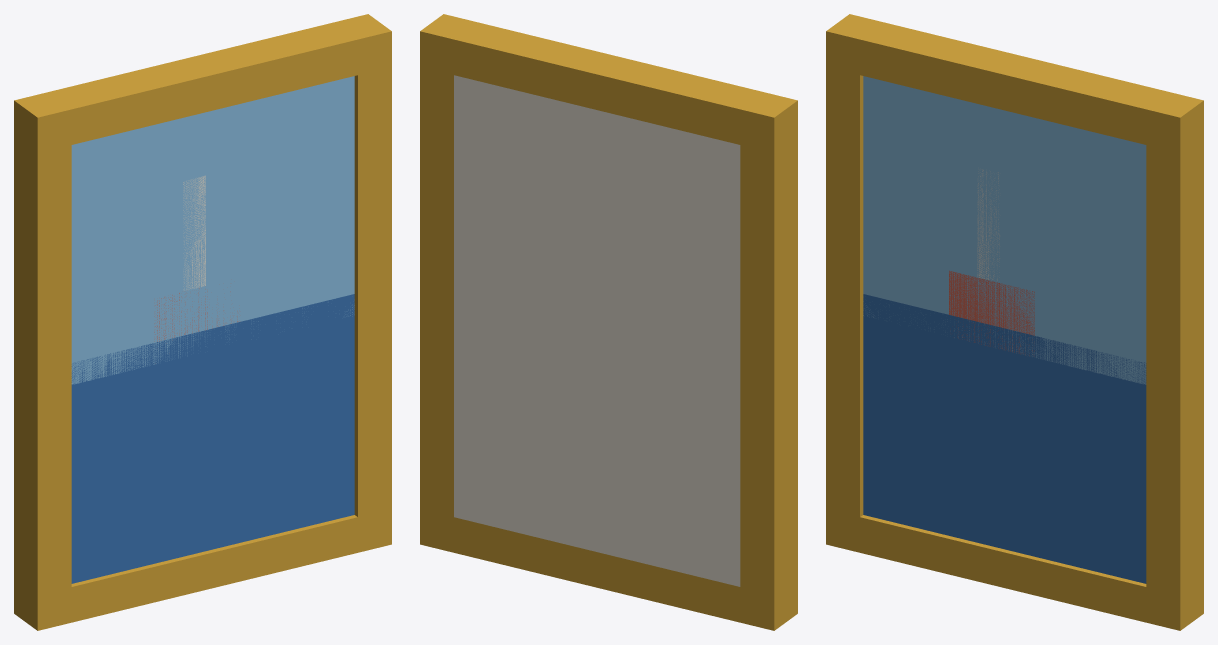
Rendered from paintingSeascape.glb.
3 renders of one model, left to right at view 1: azimuth 30°, elevation 25°; view 2: azimuth 150°, elevation 25°; view 3: azimuth 330°, elevation 25°, orthographic.
Visible parts, largest first — view 1: paintingSeascape; view 2: paintingSeascape; view 3: paintingSeascape.
Boxes of the visible parts, box(x1,y1,x2,y2) form: paintingSeascape: box(14, 14, 391, 630); paintingSeascape: box(420, 14, 797, 630); paintingSeascape: box(826, 14, 1203, 630).
Size of the model in its own units: 0.26 by 0.36 by 0.03.
Materials: 1 (1 with a texture image).
